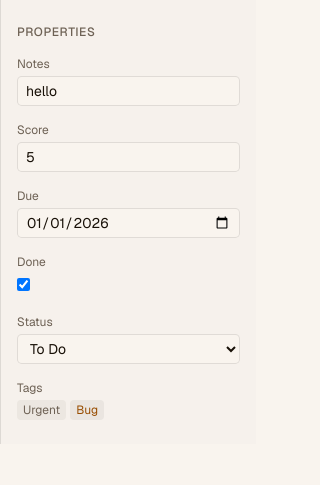
Test: PropertiesPanel › clears a previous error once a later save succeeds
This screenshot has width=320, height=485.
Replace the text in the field named "Notes" with "will fail" at (128, 91), box [17,76,240,106]
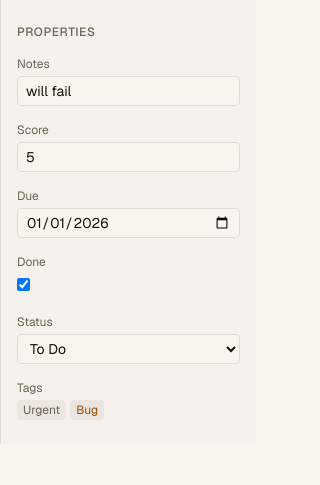
Leave the field named "Notes", box [17,76,240,106]
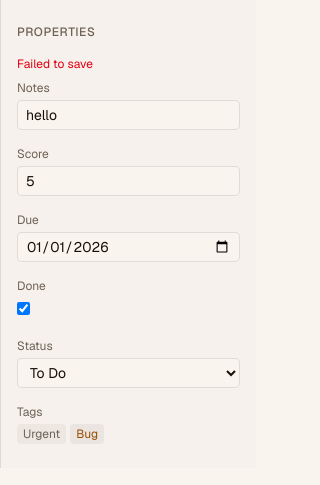
Expected: the text "Failed to save" is shown, [17,56,93,72]
Replace the text in the field named "Notes" with "will succeed" at (128, 115), box [17,100,240,130]
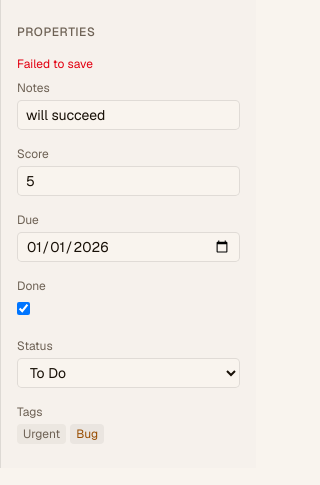
Leave the field named "Notes", box [17,100,240,130]
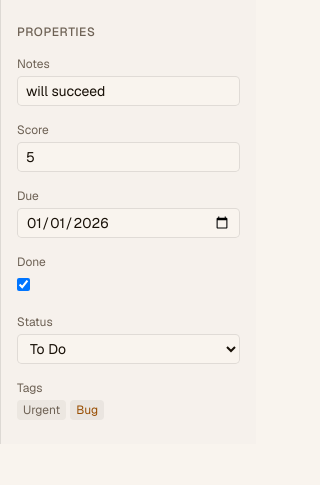
Expected: the text "Failed to save" is gone
